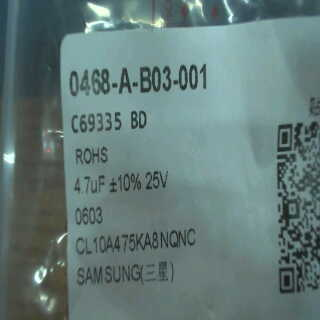4.7uF: (70, 171, 109, 198)
